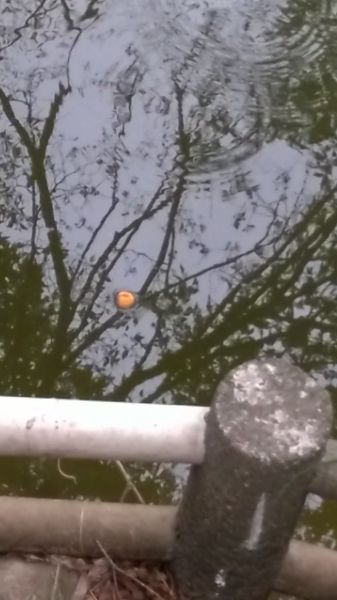eggs: (111, 285, 138, 312)
